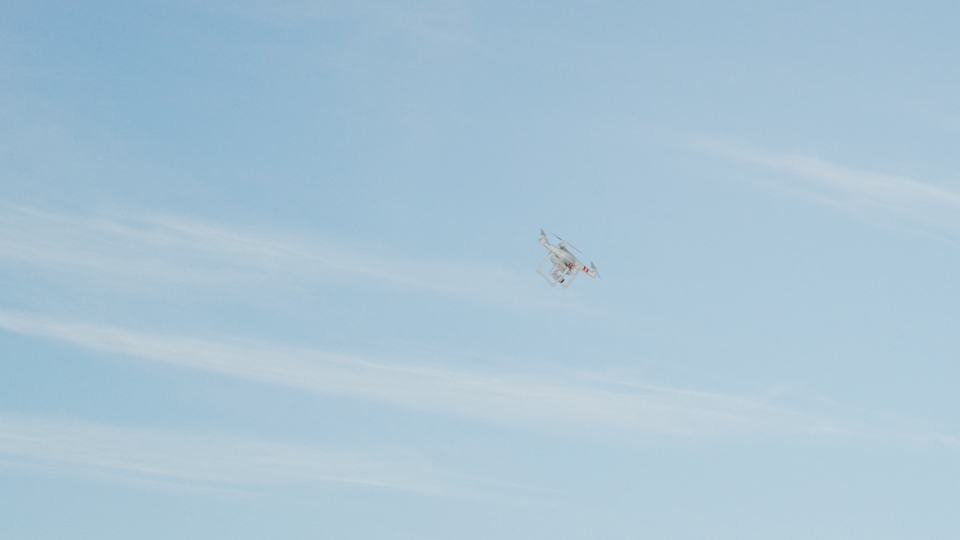drone: (537, 232, 604, 286)
